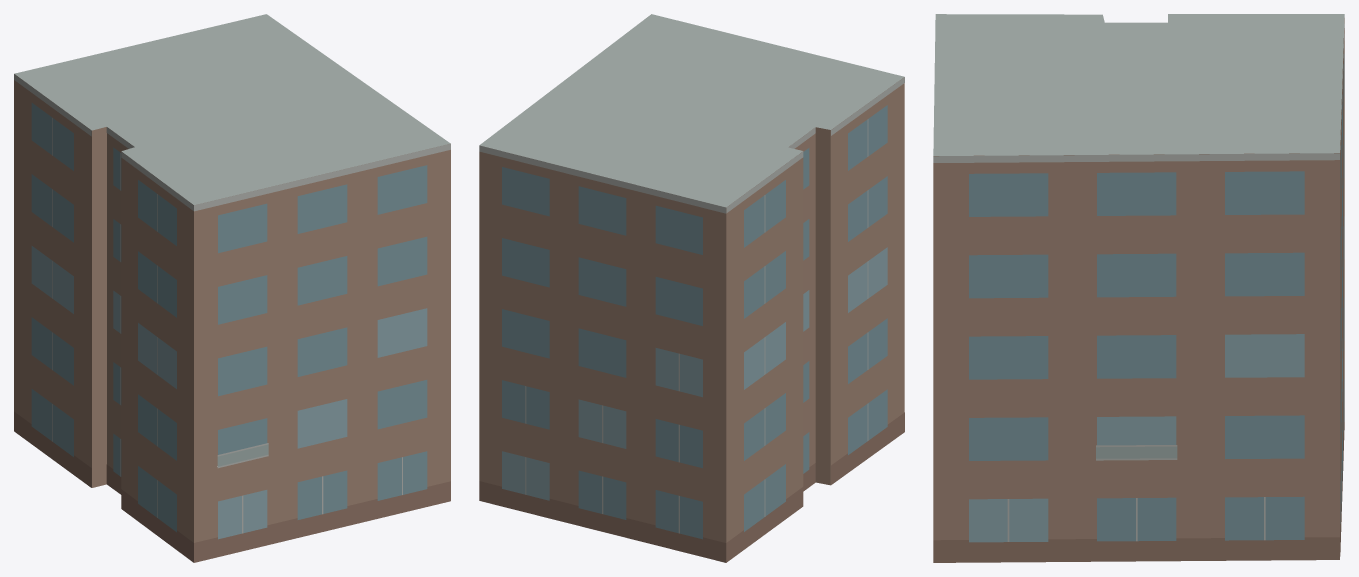
Rendered from survey-upis-33046826.glb.
3 renders of one model, left to right at view 1: azimuth 30°, elevation 25°; view 2: azimuth 150°, elevation 25°; view 3: azimuth 270°, elevation 25°, orthographic. The views are drawn at different scales.
Parts seen in each view (by area): view 1: survey-upis-33046826.tmp; view 2: survey-upis-33046826.tmp; view 3: survey-upis-33046826.tmp.
Boxes of the visible parts, x1,y1,x2,y2 form: survey-upis-33046826.tmp: (14,14,450,562); survey-upis-33046826.tmp: (479,14,904,562); survey-upis-33046826.tmp: (933,14,1344,562).
Size of the model in its own units: 10.57 by 14.1 by 12.93.
